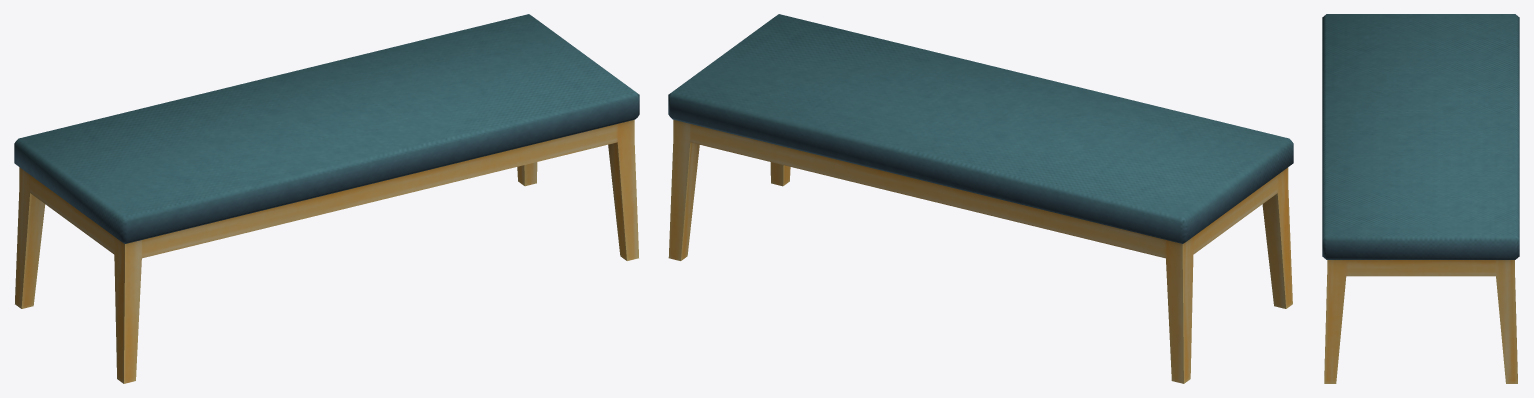
The model's file is sb_obj_ModernCity068_diningchair_c.fbx.
3 renders of one model, left to right at view 1: azimuth 30°, elevation 25°; view 2: azimuth 150°, elevation 25°; view 3: azimuth 270°, elevation 25°, orthographic. The views are drawn at different scales.
Visible parts, largest first — view 1: sb_obj_ModernCity068_diningchair_c; view 2: sb_obj_ModernCity068_diningchair_c; view 3: sb_obj_ModernCity068_diningchair_c.
Boxes of the visible parts, <box> form: sb_obj_ModernCity068_diningchair_c: <box>14,14,639,383</box>; sb_obj_ModernCity068_diningchair_c: <box>668,14,1293,383</box>; sb_obj_ModernCity068_diningchair_c: <box>1322,14,1519,383</box>.
Bounding box in the file's own units: 1.31 × 0.4005 × 0.486.
Materials: 1 (1 with a texture image).
